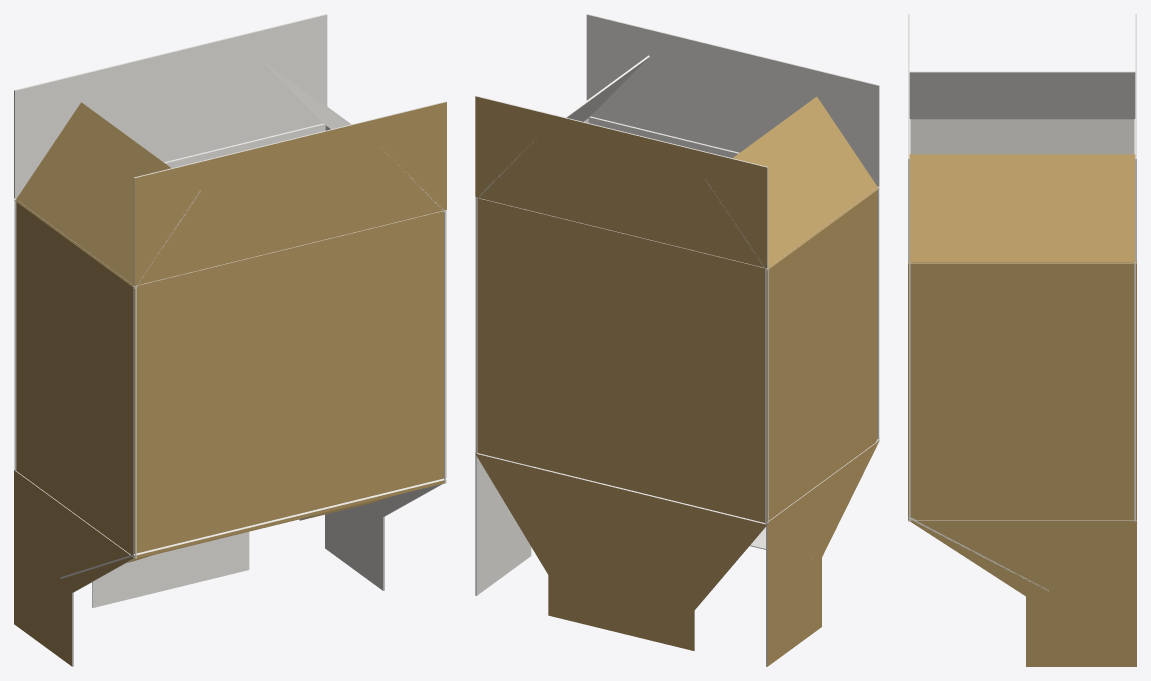
The picture shows the model from 3 angles, left to right: view 1: azimuth 30°, elevation 25°; view 2: azimuth 150°, elevation 25°; view 3: azimuth 270°, elevation 25°; orthographic projection. The views are drawn at different scales.
Visible parts, largest first — view 1: Packive_Box_fefco0216; view 2: Packive_Box_fefco0216; view 3: Packive_Box_fefco0216.
Boxes of the visible parts, x1,y1,x2,y2 form: Packive_Box_fefco0216: (14, 14, 446, 666); Packive_Box_fefco0216: (475, 14, 879, 666); Packive_Box_fefco0216: (908, 14, 1136, 666).
Size of the model in its own units: 0.3 by 0.492 by 0.2.
26 materials, 13 textured.
